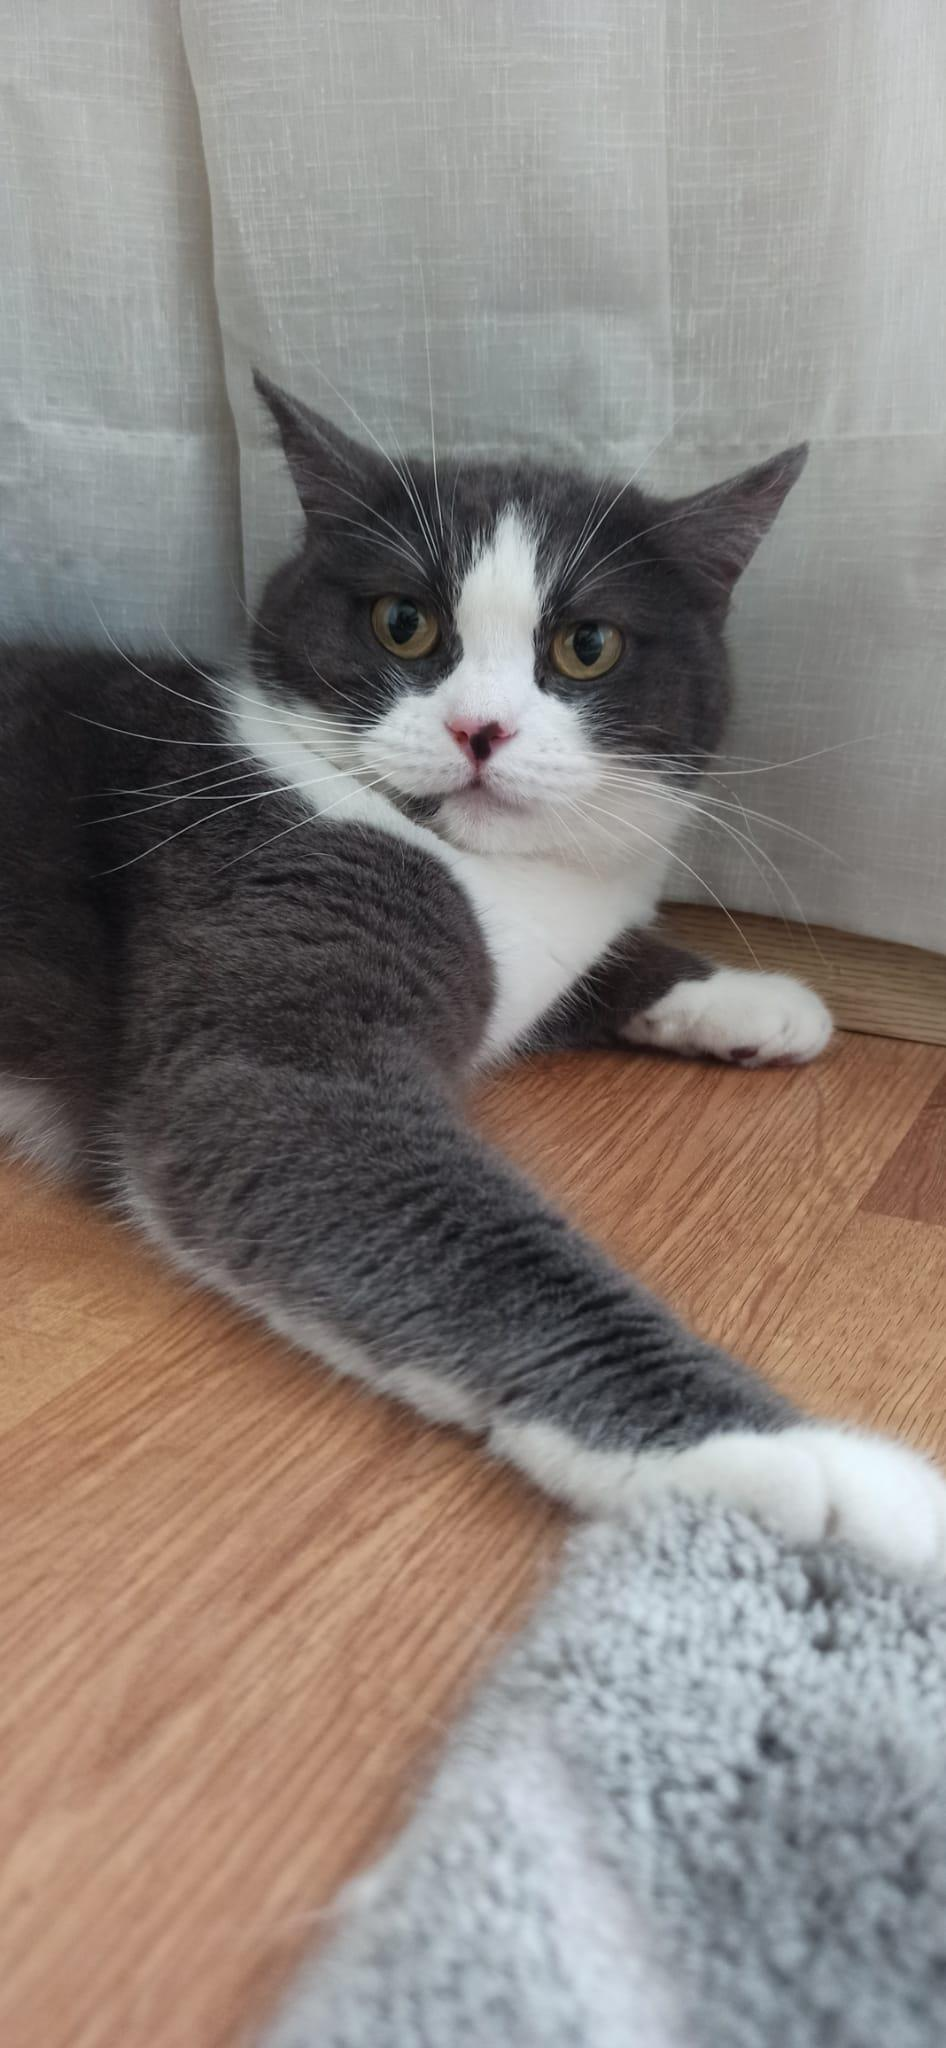kedo: (20, 364, 946, 1554)
